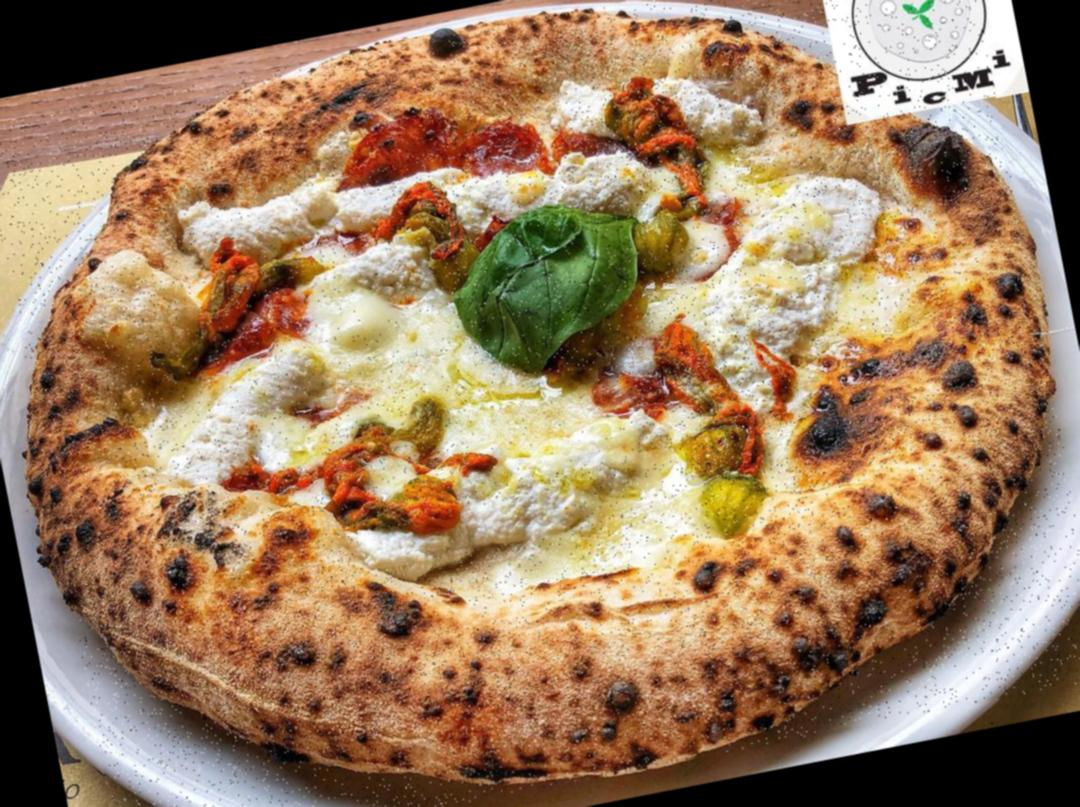Basil: (462, 207, 645, 374)
Cheese: (696, 186, 882, 372), (290, 241, 467, 411), (162, 353, 324, 487), (465, 360, 638, 484), (192, 171, 395, 259), (358, 490, 581, 570), (465, 150, 640, 227), (590, 468, 692, 567), (670, 72, 760, 150), (560, 85, 612, 142)
Peppers: (318, 405, 465, 537), (352, 100, 534, 202), (654, 326, 771, 481), (153, 250, 272, 366), (614, 77, 701, 205), (379, 182, 464, 261)
Pizza: (0, 0, 1080, 807)
